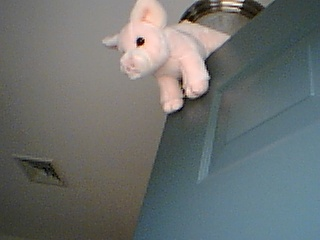piggy: (100, 1, 232, 116)
